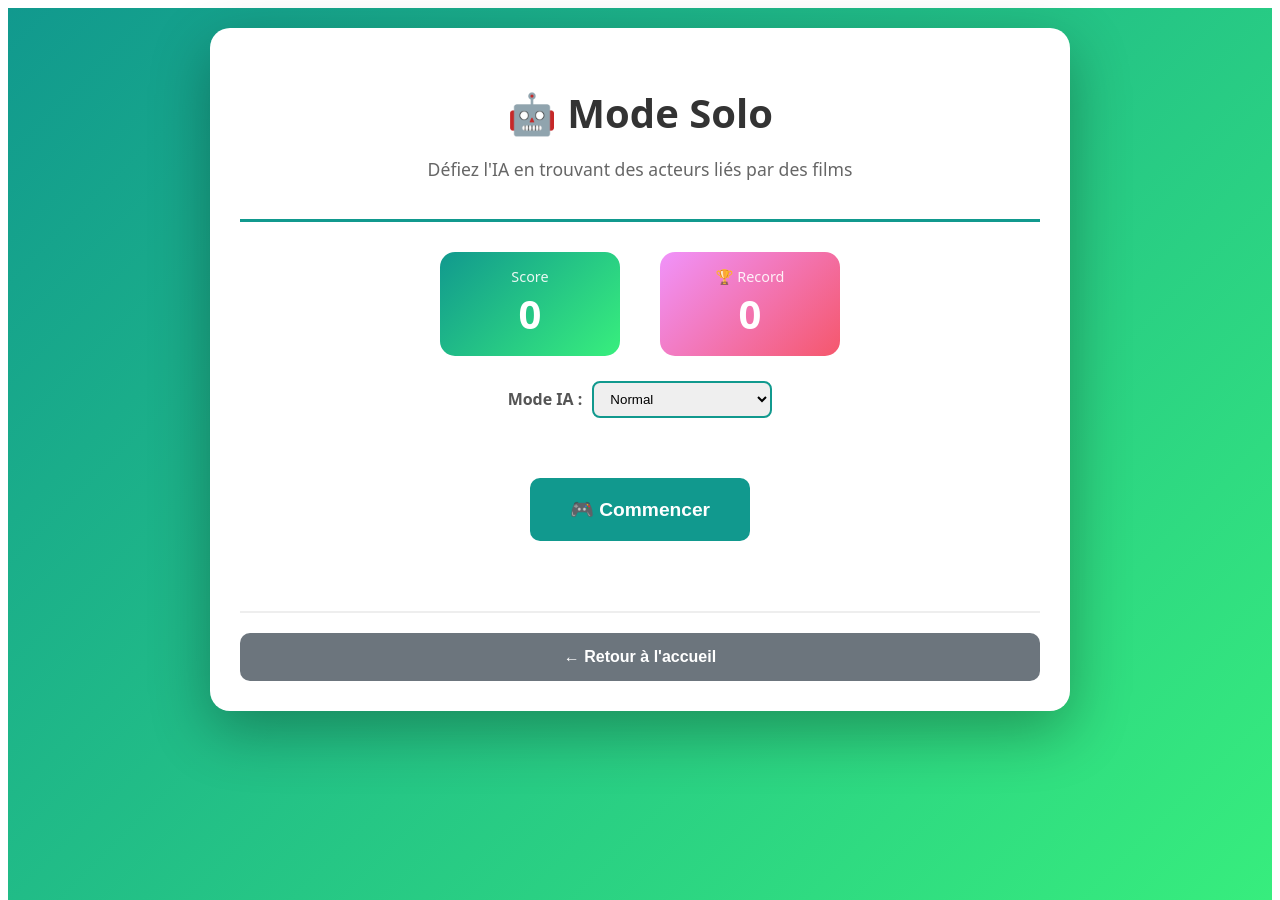
Test case: Tests d'intégration - Scénarios complets › Scénario 4 : Relancer une partie après game over
Démarrer et abandonner
Click the button "🎮 Commencer" at (640, 510), box [530, 478, 750, 541]
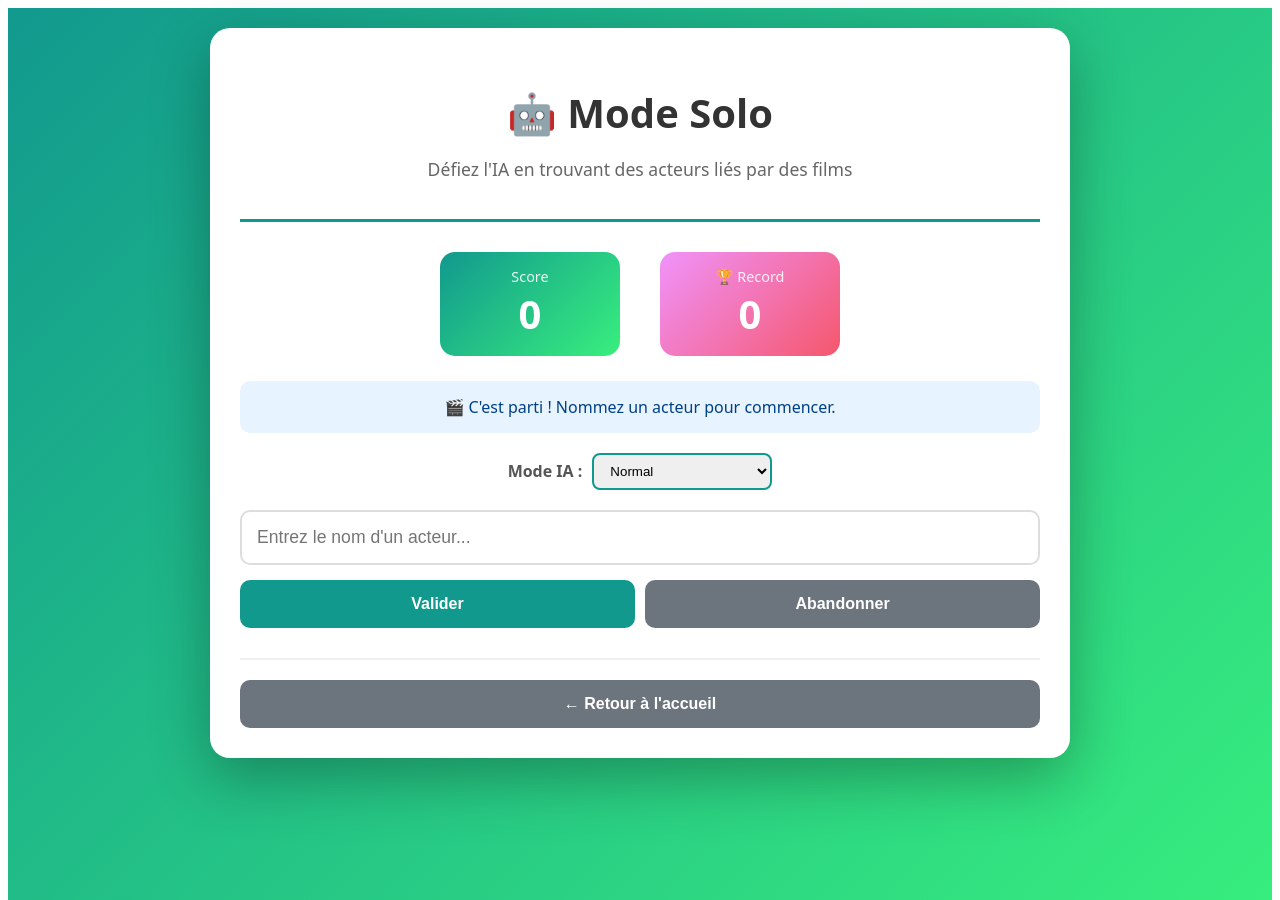
Check: the text "🎬 C'est parti ! Nommez un acteur pour commencer." is shown, box [240, 381, 1040, 433]
Click the button "Abandonner" at (842, 604), box [645, 580, 1040, 628]
(page scrolled)
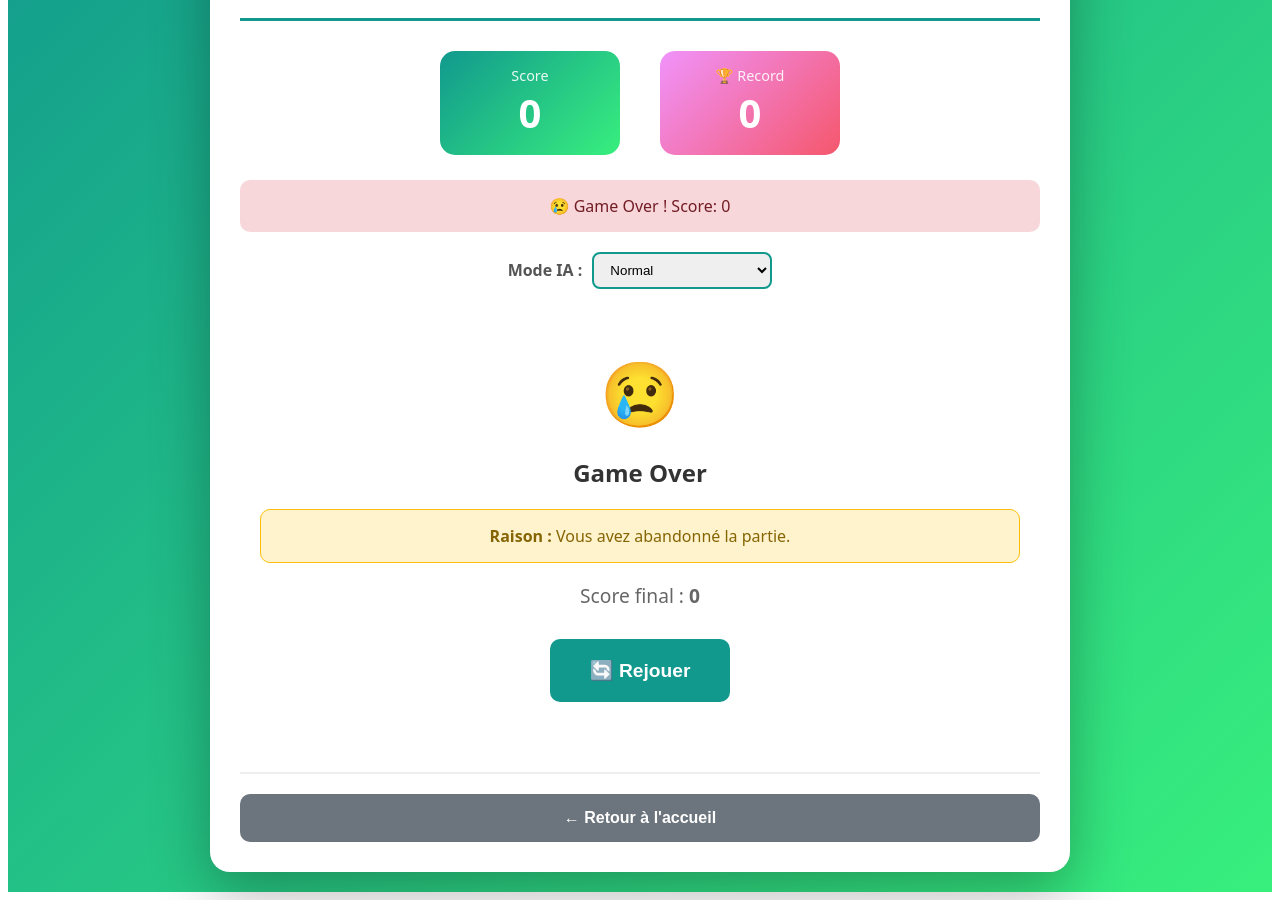
Check: the text "😢 Game Over ! Score: 0" is shown, box [240, 180, 1040, 232]
Nouvelle partie
Click the button "🔄 Rejouer" at (640, 670), box [550, 639, 730, 702]
(page scrolled)
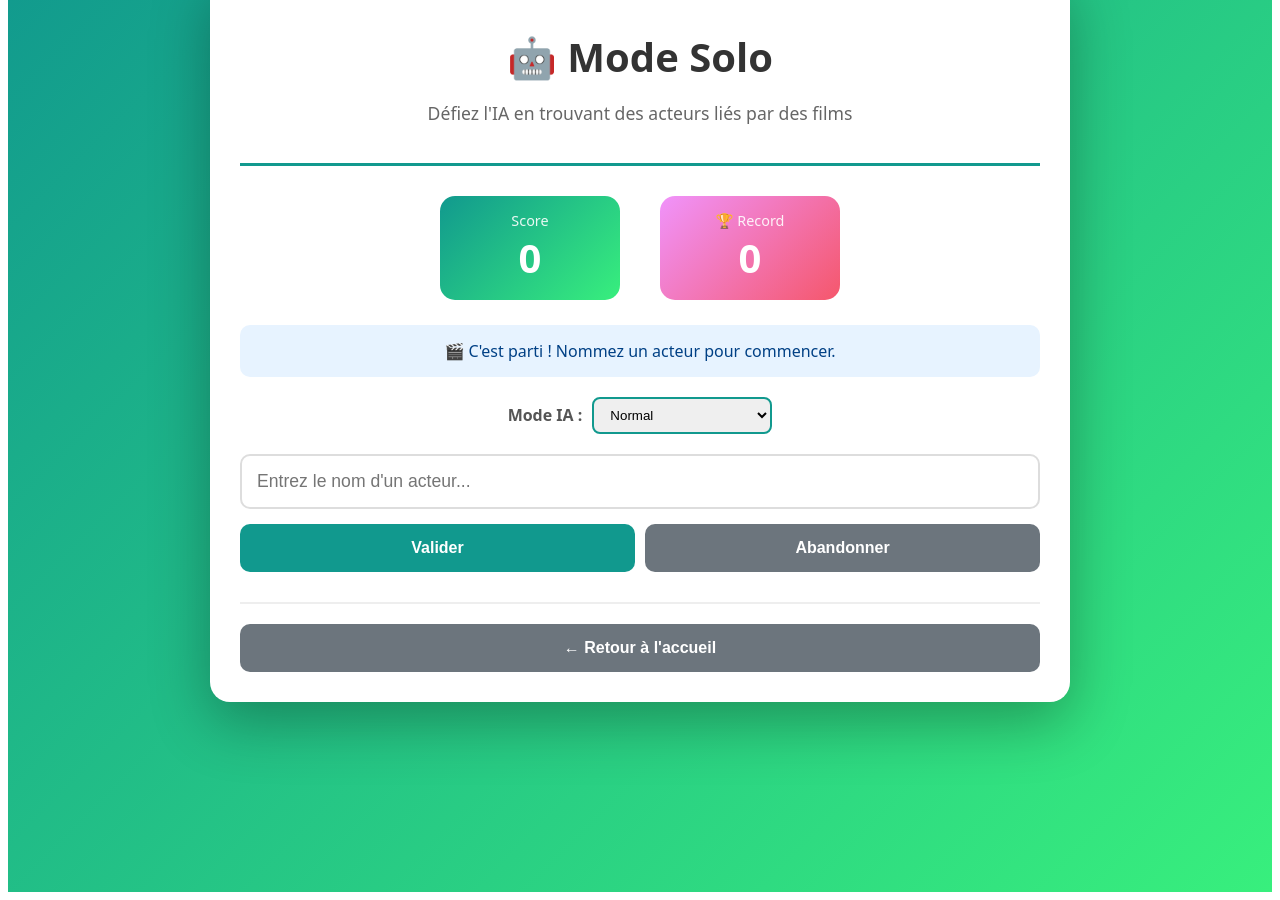
Check: the text "🎬 C'est parti ! Nommez un acteur pour commencer." is shown, box [240, 325, 1040, 377]
Check: the field with placeholder "Entrez le nom d'un acteur..." is shown, box [240, 454, 1040, 509]
Check: the text "0" is shown 2 times, box [518, 230, 541, 285]; [738, 230, 761, 285]
